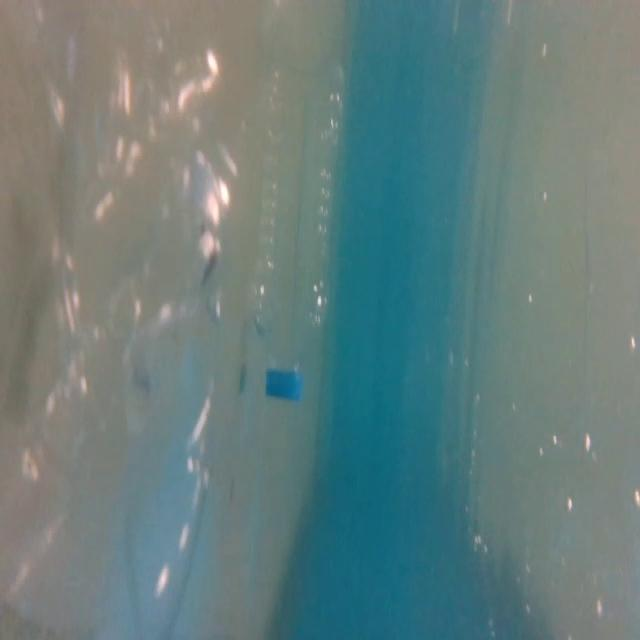plastic bottle: (15, 18, 209, 640), (244, 54, 348, 414)
